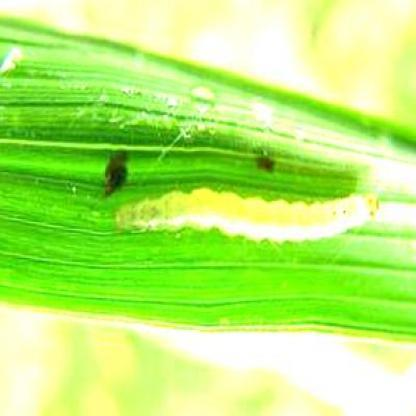leaf-folder: (89, 152, 390, 272)
